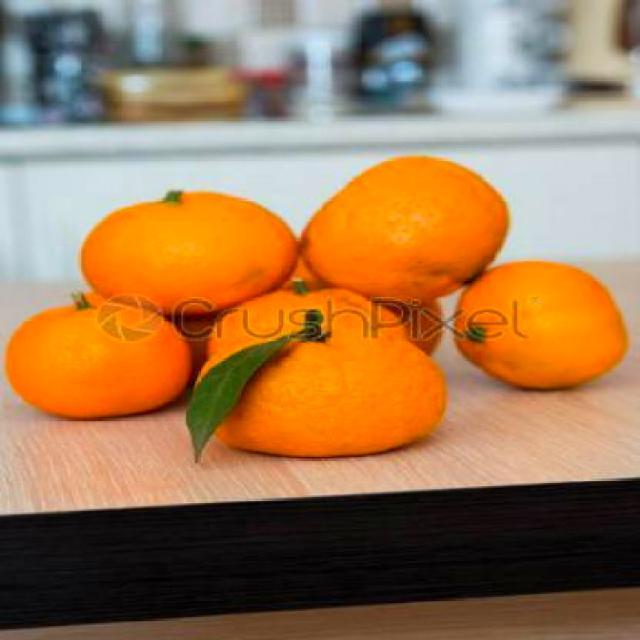Jeruk Sudah Matang: (206, 326, 443, 456), (302, 153, 506, 302), (73, 191, 290, 311), (7, 302, 198, 415), (464, 256, 626, 387)
